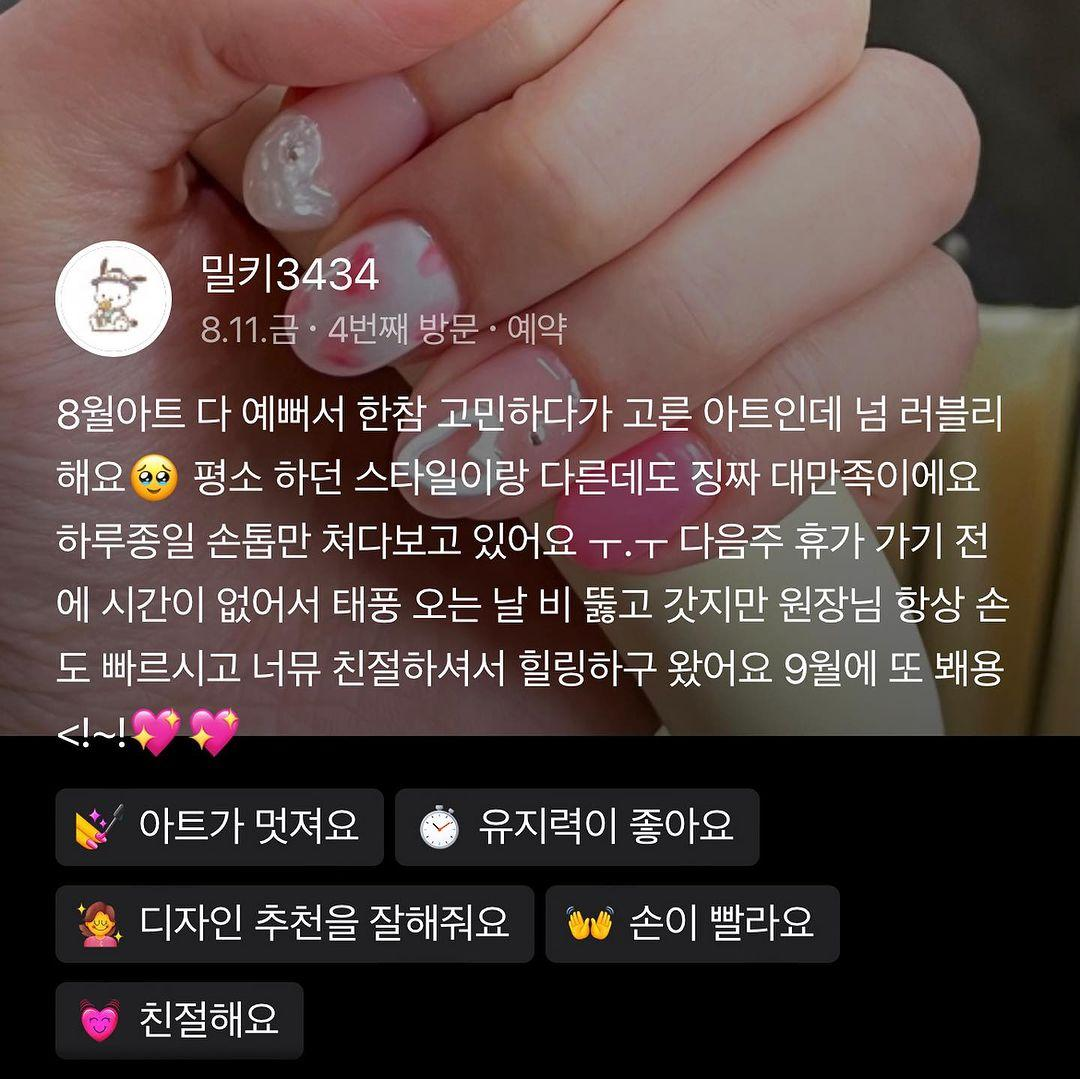nail: (390, 340, 597, 521), (240, 70, 429, 232), (282, 214, 462, 377), (553, 427, 722, 546)
